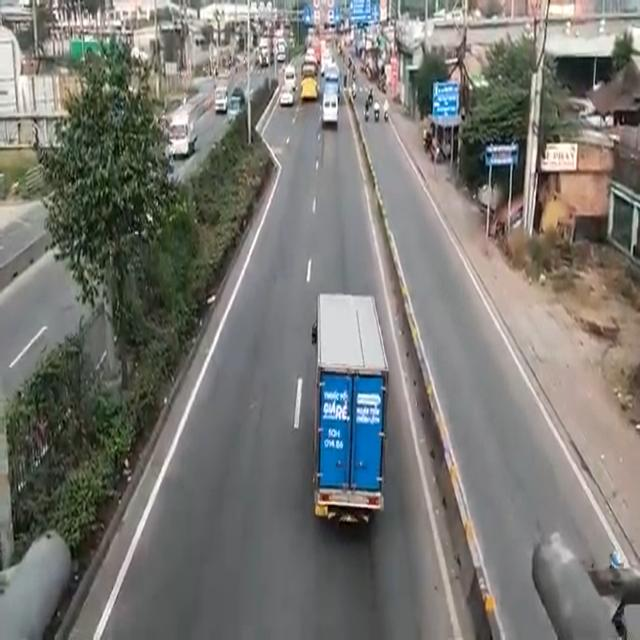bus: (322, 86, 342, 123), (300, 66, 318, 107)
car: (282, 82, 294, 108)
truck: (315, 289, 382, 530), (167, 109, 191, 157), (216, 76, 228, 117)
